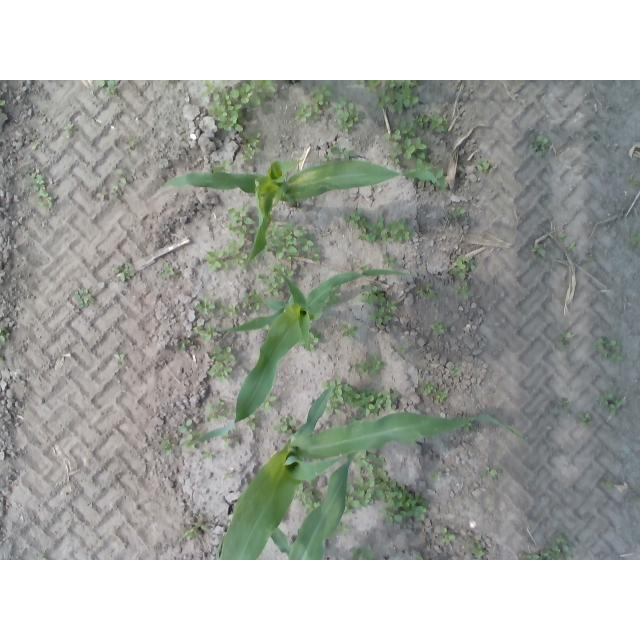Maize: (221, 388, 523, 561), (163, 268, 410, 454), (156, 160, 440, 268), (273, 454, 354, 560)
Weeds: (214, 82, 275, 131), (387, 481, 426, 524), (349, 478, 389, 513), (342, 390, 399, 414), (379, 83, 422, 114), (271, 223, 303, 258), (518, 538, 568, 559), (226, 201, 255, 235), (208, 348, 236, 381), (334, 101, 360, 131), (358, 453, 387, 479), (357, 216, 384, 243), (385, 217, 411, 244), (374, 299, 398, 325), (404, 136, 428, 160), (207, 250, 229, 274), (599, 337, 621, 360), (602, 391, 624, 414), (29, 169, 48, 195), (354, 357, 381, 375), (228, 238, 248, 261), (243, 132, 259, 160), (206, 399, 226, 421), (309, 85, 332, 104), (184, 521, 208, 539), (294, 104, 314, 124), (201, 83, 221, 102), (275, 416, 297, 433), (246, 287, 262, 310), (193, 299, 216, 314), (298, 488, 315, 508), (360, 285, 378, 303), (74, 289, 91, 308), (331, 147, 357, 159), (329, 399, 346, 417), (437, 528, 456, 544), (117, 266, 136, 282), (275, 266, 294, 282), (178, 425, 198, 440), (470, 541, 486, 559), (354, 544, 372, 560), (195, 325, 217, 338), (332, 378, 349, 394), (431, 117, 446, 135), (119, 169, 134, 187), (345, 209, 360, 227), (454, 257, 466, 279), (264, 283, 281, 298), (399, 121, 417, 135), (198, 448, 218, 460), (99, 82, 120, 93), (422, 285, 437, 300), (162, 263, 178, 277), (223, 303, 239, 317), (414, 113, 429, 127), (388, 145, 403, 159), (343, 325, 359, 338), (362, 81, 382, 91), (39, 197, 57, 208), (66, 121, 77, 139), (433, 390, 447, 404), (386, 131, 401, 144), (532, 245, 547, 258), (462, 283, 474, 299), (383, 252, 397, 265), (534, 139, 550, 150), (430, 323, 447, 333), (477, 160, 491, 172), (302, 238, 314, 252), (451, 207, 466, 218), (486, 466, 499, 478), (215, 161, 229, 172), (177, 338, 191, 349), (464, 258, 476, 270), (559, 332, 571, 344), (246, 414, 256, 428), (165, 441, 174, 456), (417, 160, 432, 169), (313, 332, 320, 351), (1, 331, 12, 343), (225, 435, 238, 445), (630, 234, 640, 246), (566, 241, 576, 252), (451, 365, 462, 375), (265, 397, 275, 408), (397, 345, 407, 355), (115, 353, 126, 362), (585, 248, 595, 257), (128, 139, 138, 148), (629, 178, 639, 187), (426, 384, 434, 394), (431, 472, 442, 479), (582, 415, 591, 422), (225, 472, 235, 477), (112, 187, 119, 194)
